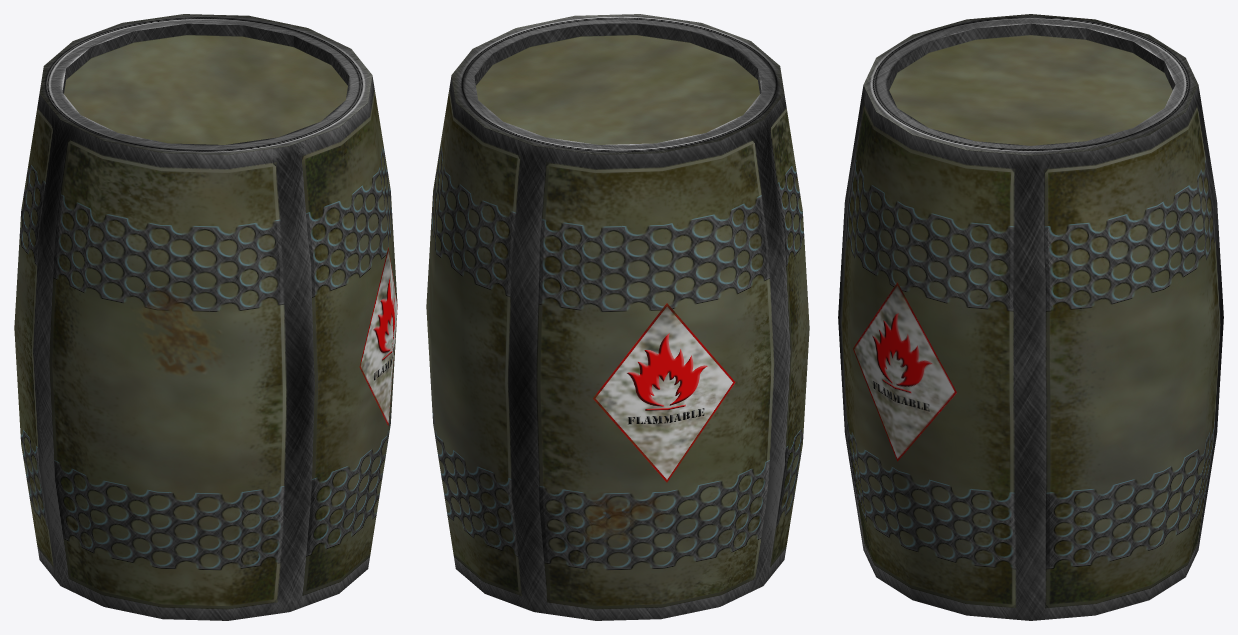
File: Barrel_FIRE.FBX
The picture shows the model from 3 angles, left to right: view 1: azimuth 30°, elevation 25°; view 2: azimuth 150°, elevation 25°; view 3: azimuth 270°, elevation 25°; orthographic projection.
Visible parts, largest first — view 1: Barrel_Fire; view 2: Barrel_Fire; view 3: Barrel_Fire.
Boxes of the visible parts, left/top/right/bottom form: Barrel_Fire: left=14, top=14, right=397, bottom=620; Barrel_Fire: left=426, top=14, right=809, bottom=620; Barrel_Fire: left=838, top=14, right=1223, bottom=620.
Bounding box in the file's own units: 0.8398 × 0.8398 × 1.12.
Materials: 1 (1 with a texture image).
